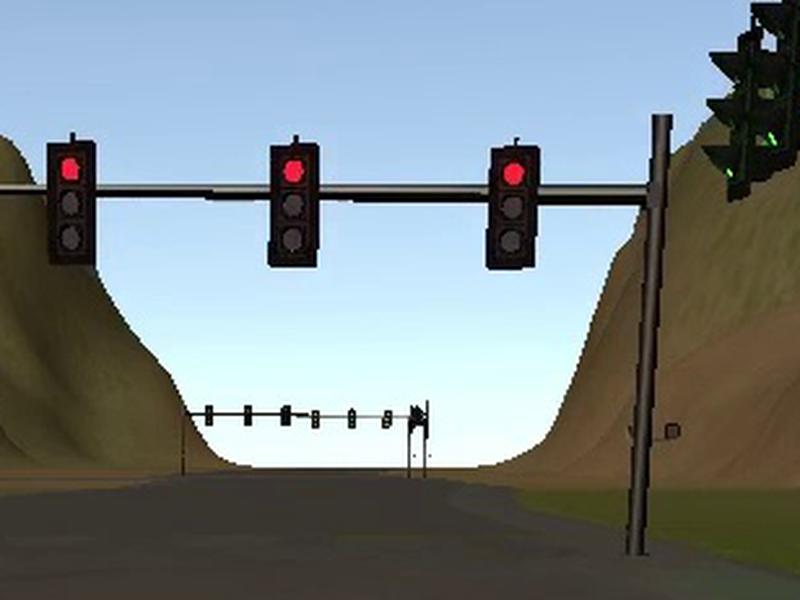Red: (483, 146, 541, 270), (267, 146, 318, 266), (48, 141, 96, 265)
